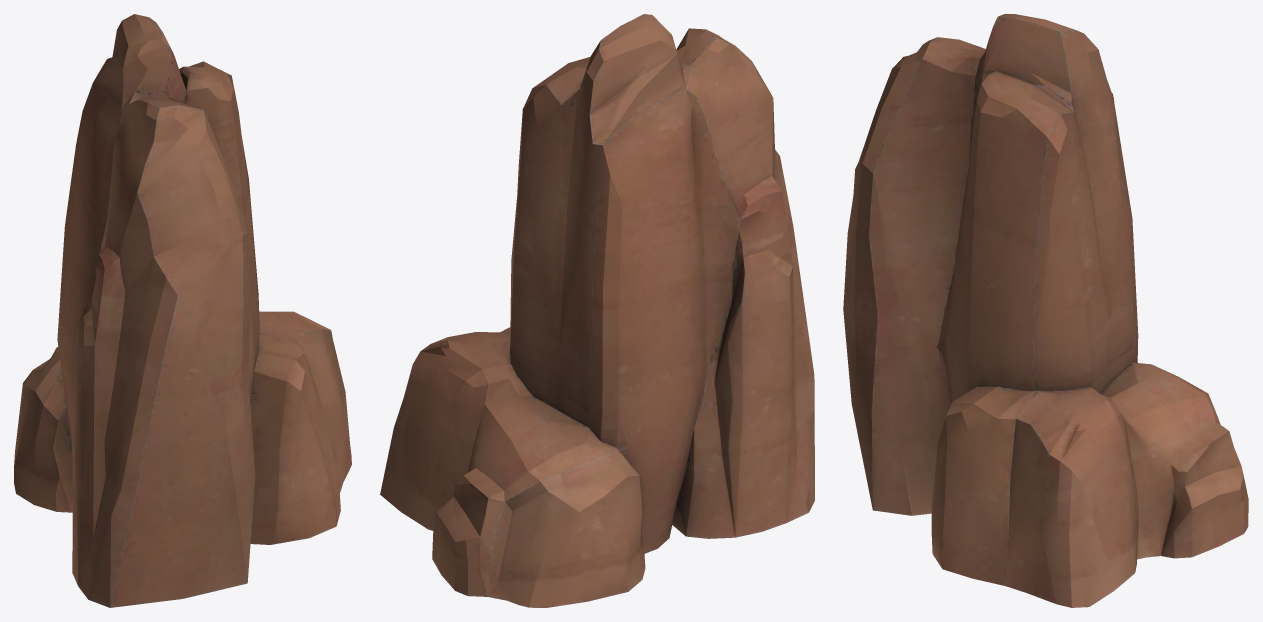
The picture shows the model from 3 angles, left to right: view 1: azimuth 30°, elevation 25°; view 2: azimuth 150°, elevation 25°; view 3: azimuth 270°, elevation 25°; orthographic projection. The views are drawn at different scales.
Visible parts, largest first — view 1: body0_model0_lod0_mesh0; view 2: body0_model0_lod0_mesh0; view 3: body0_model0_lod0_mesh0.
Boxes of the visible parts, x1=… form: body0_model0_lod0_mesh0: x1=14, y1=14, x2=351, y2=607; body0_model0_lod0_mesh0: x1=380, y1=14, x2=814, y2=607; body0_model0_lod0_mesh0: x1=843, y1=14, x2=1248, y2=607.
Bounding box in the file's own units: 270 × 379 × 286.
1 material, 1 textured.
